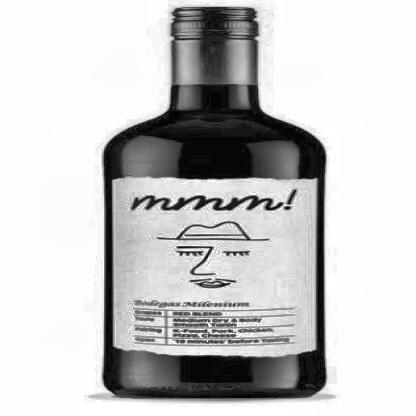umm: (114, 179, 314, 356)
